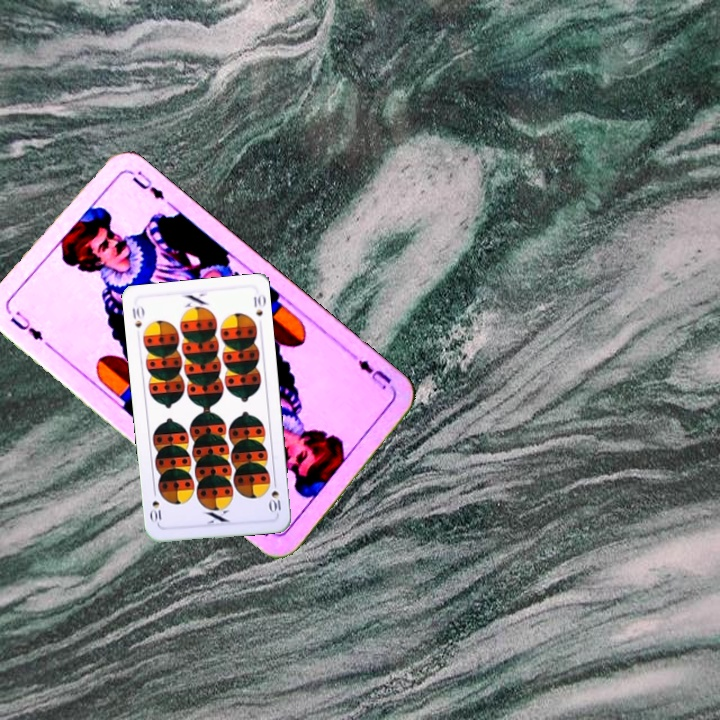EU: (348, 350, 398, 394), (6, 307, 46, 344)
S10: (264, 476, 284, 515), (128, 302, 146, 330)
